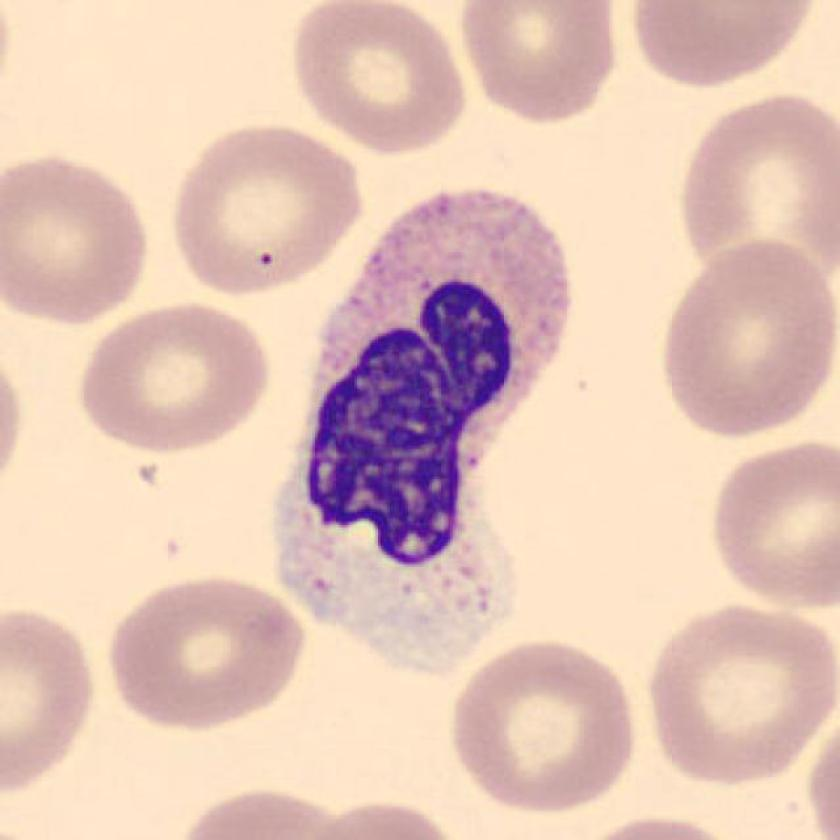neutrophil: (278, 190, 572, 677)
